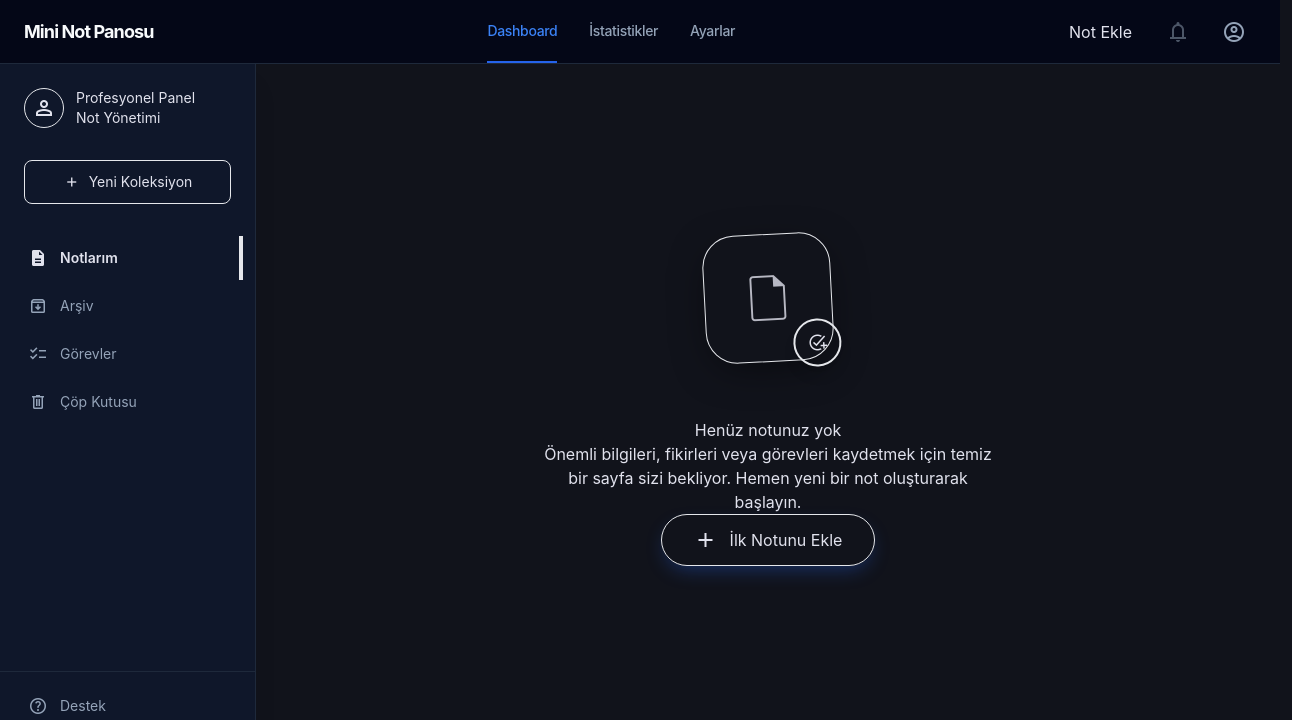
Test case: App UI › can add a note with todos
The image size is (1292, 720).
Step 1. Click the button "İlk Notunu Ekle" → (768, 540), box [661,514,875,566]
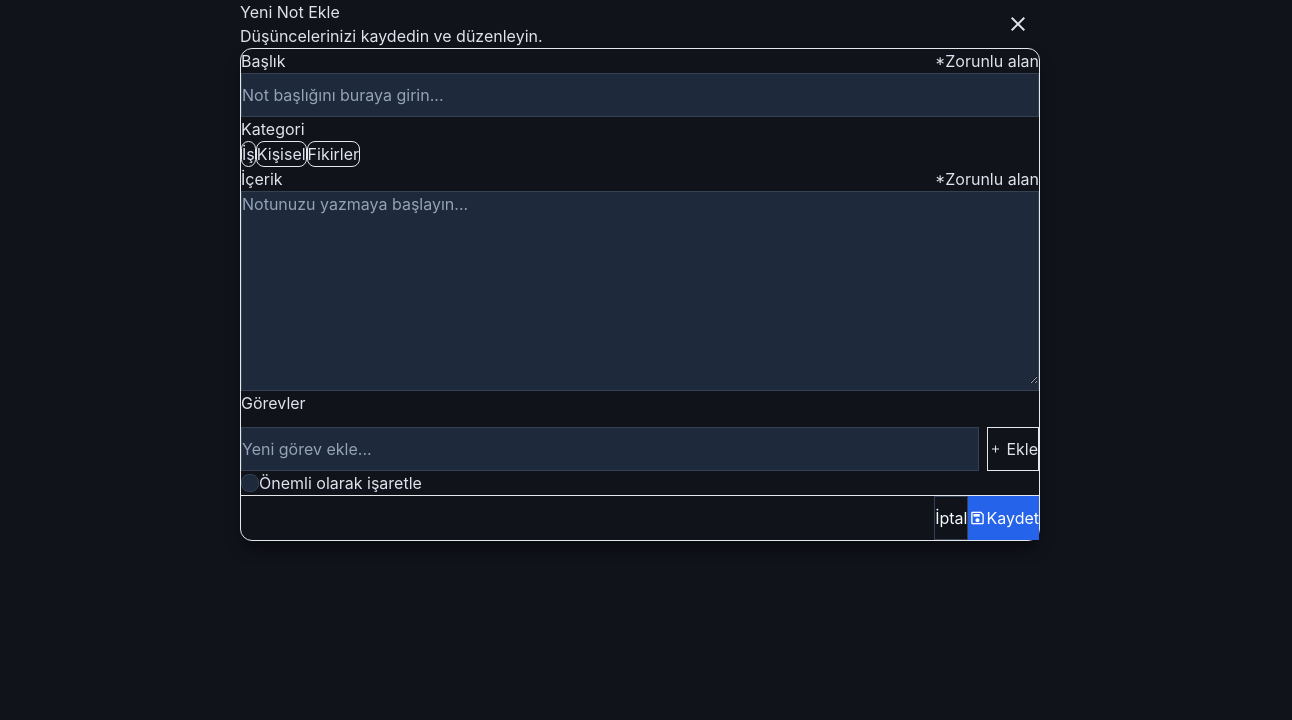
Step 2. Type "Görev Listesi" into the field with placeholder "Not başlığını buraya girin..." → (640, 95), box [241,73,1039,117]
Step 3. Type "Yapılacaklar" into the text box with placeholder "Notunuzu yazmaya başlayın..." → (640, 288), box [242,192,1038,384]
Step 4. Type "Görev 1" into the field with placeholder "Yeni görev ekle..." → (610, 449), box [241,427,979,471]
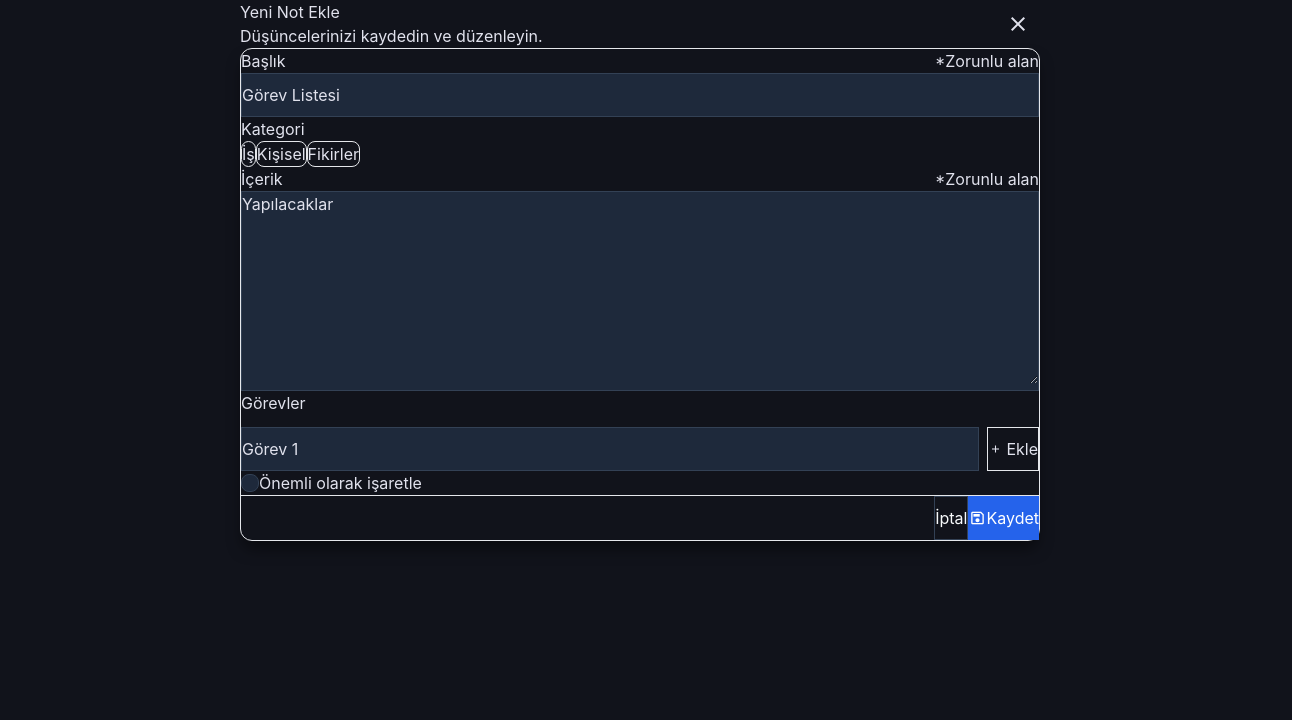
Step 5. Click the button "Ekle" → (1013, 449), box [987,427,1039,471]
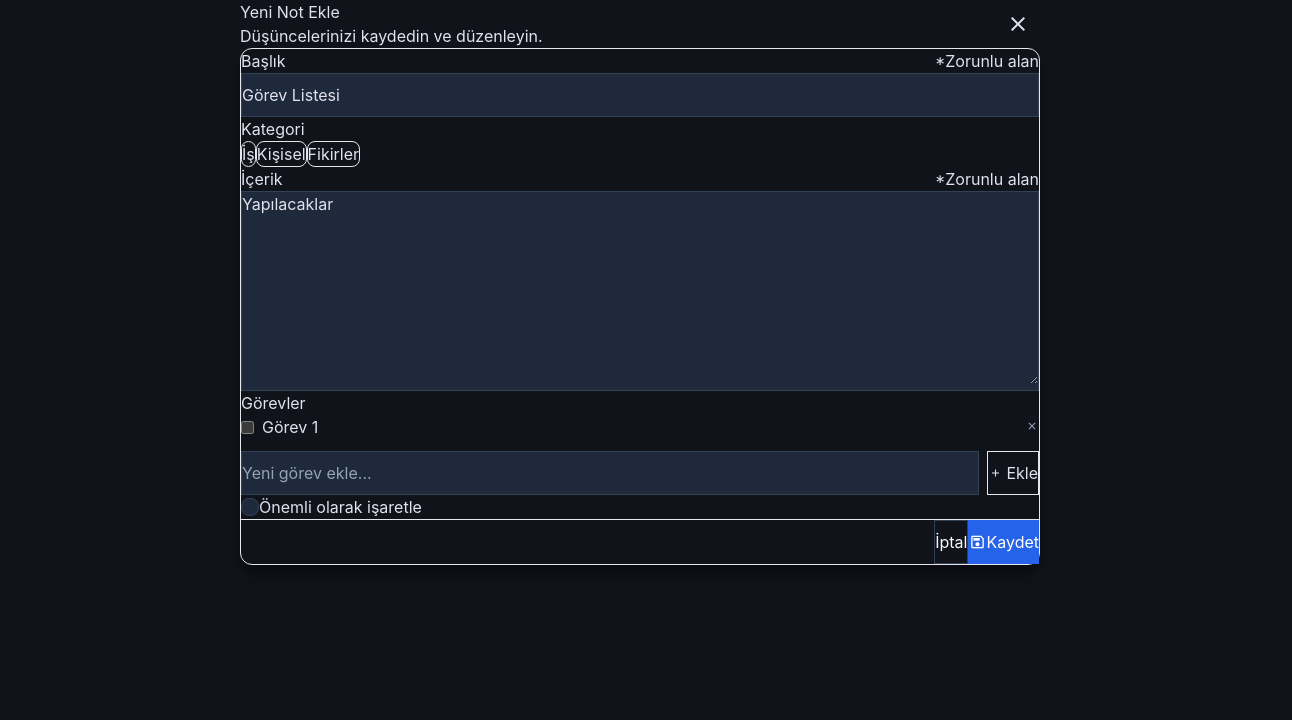
Step 6. Type "Görev 2" into the field with placeholder "Yeni görev ekle..." → (610, 473), box [241,451,979,495]
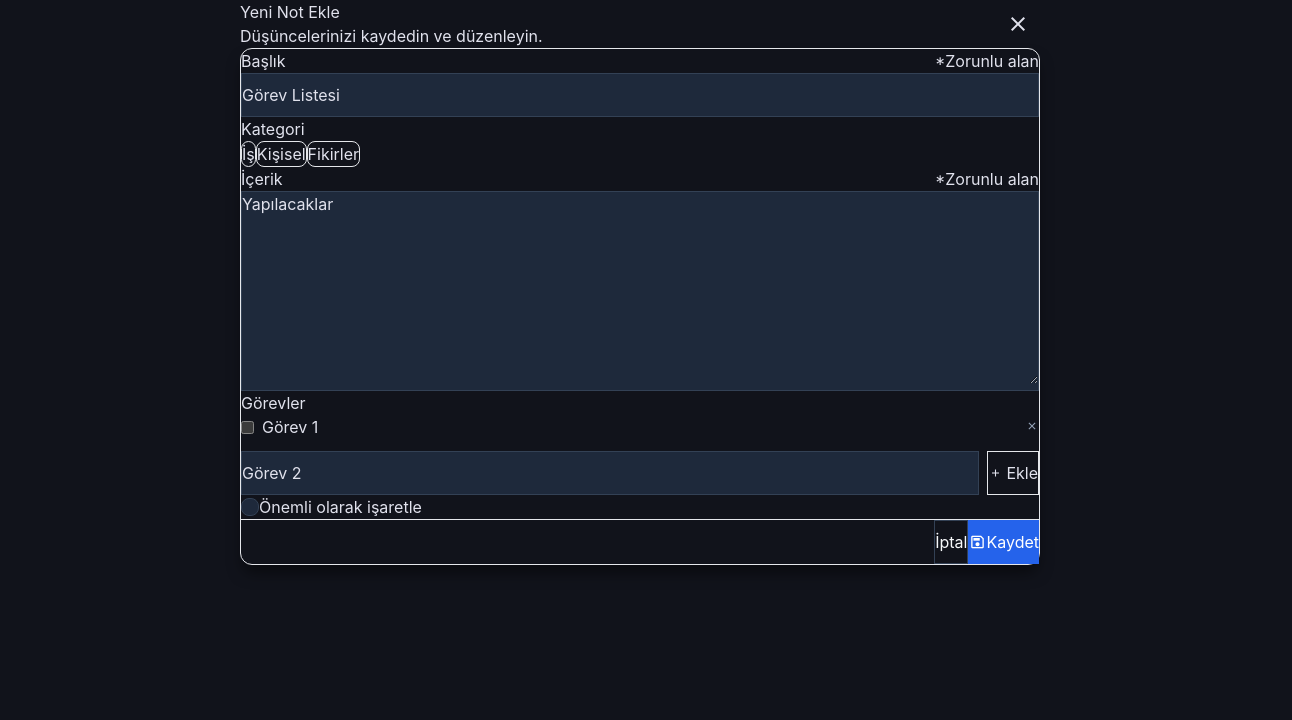
Step 7. Click the button "Ekle" → (1013, 473), box [987,451,1039,495]
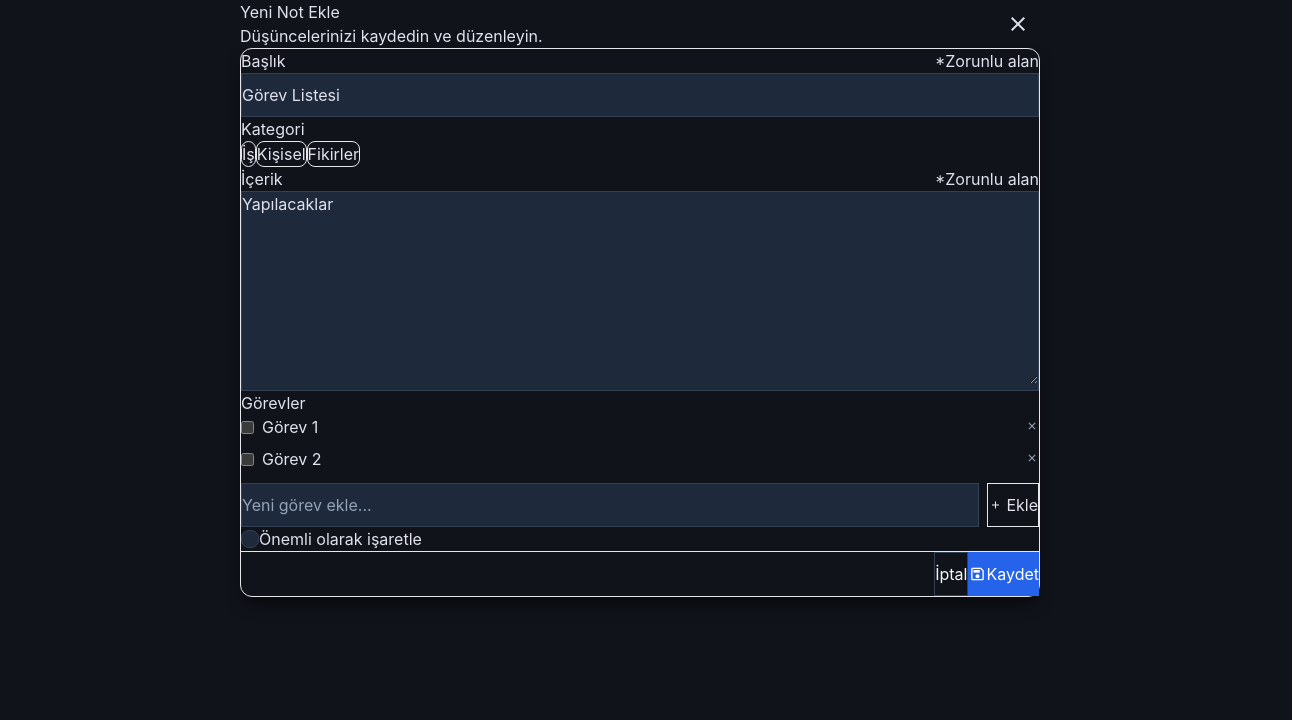
Step 8. Click the button "Kaydet" → (1004, 574), box [968,552,1039,596]
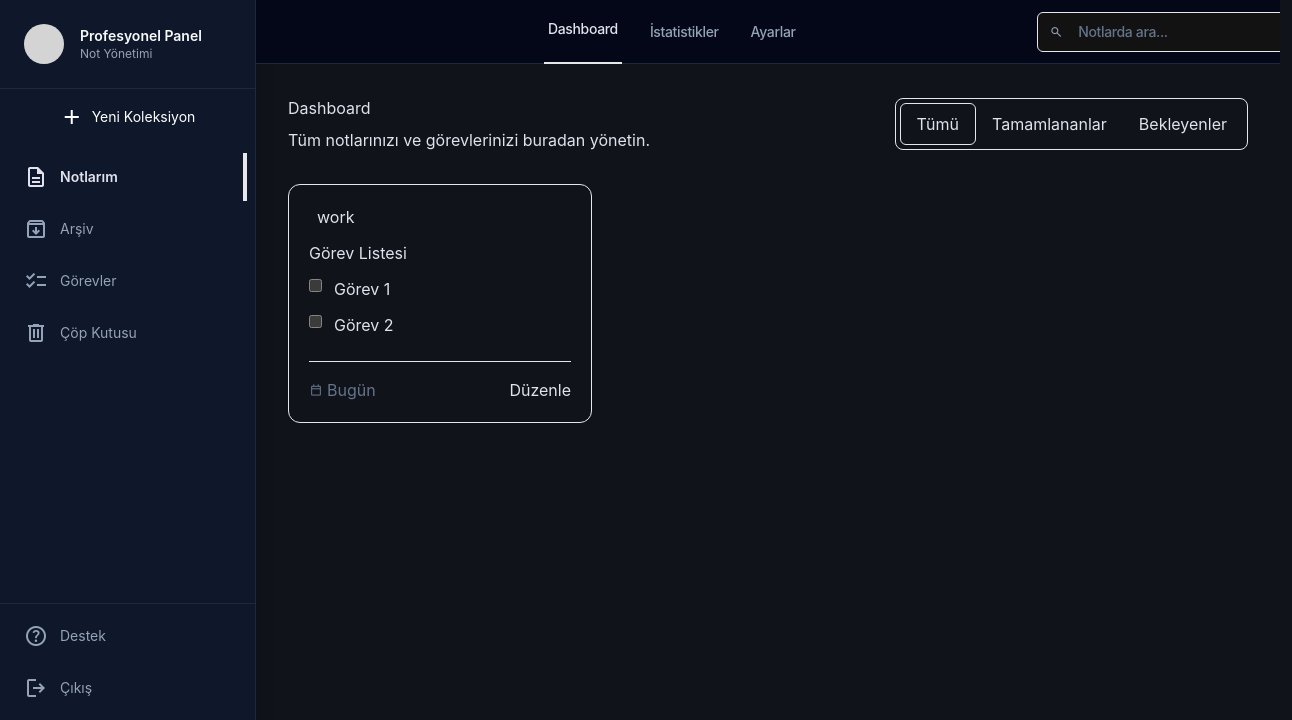
Expected: the text "Görev 1" is shown, [334,277,390,301]
Expected: the text "Görev 2" is shown, [334,313,394,337]
Expected: the heading "Görev Listesi" is shown, [309,243,407,263]
